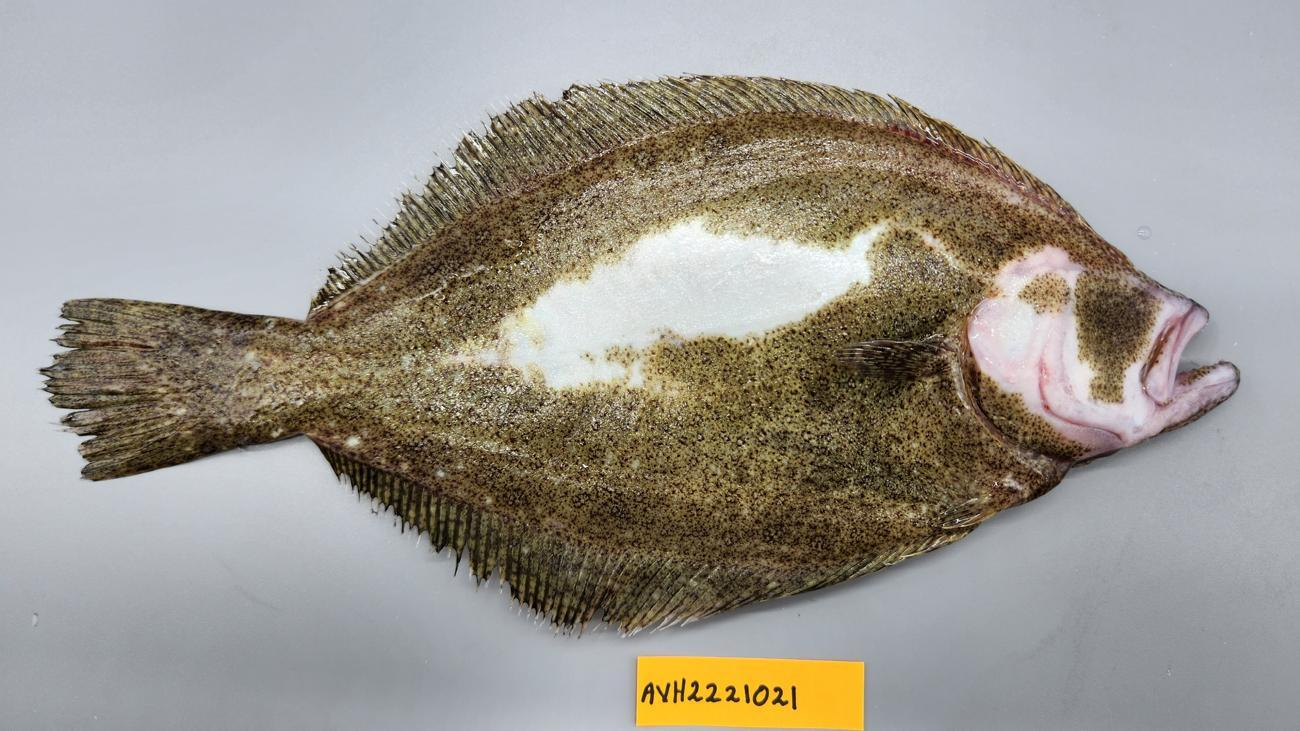VIFAH: (327, 451, 648, 636)
VIFDH: (887, 98, 1086, 222)
VIOUY: (42, 69, 1240, 641)
